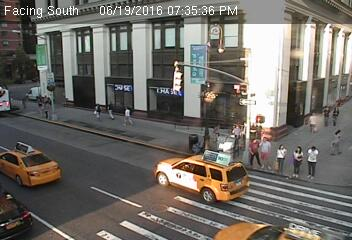neg: (150, 178, 166, 200), (250, 186, 266, 207), (72, 139, 86, 158), (5, 35, 19, 54), (101, 147, 115, 165), (22, 126, 36, 144), (25, 28, 38, 46), (238, 59, 251, 76), (103, 190, 116, 206), (195, 56, 207, 73), (73, 100, 85, 116), (227, 173, 239, 189), (179, 171, 189, 185), (86, 38, 96, 51), (110, 22, 120, 35), (70, 56, 80, 69), (30, 58, 40, 71), (54, 6, 64, 19), (294, 198, 304, 210), (283, 50, 292, 63), (243, 18, 252, 30), (68, 181, 77, 193), (187, 23, 195, 34), (126, 43, 134, 54), (249, 84, 257, 95), (204, 144, 212, 155), (40, 164, 48, 174), (191, 132, 199, 142), (50, 52, 57, 62), (165, 36, 172, 45), (176, 101, 183, 110), (76, 31, 82, 40), (159, 132, 165, 141)
pos: (302, 144, 327, 178), (286, 145, 311, 178), (256, 134, 281, 167), (239, 133, 263, 165), (270, 142, 292, 172), (326, 128, 348, 157), (304, 110, 322, 133), (326, 102, 344, 125), (317, 104, 334, 127), (119, 106, 134, 126), (104, 100, 117, 118), (39, 93, 51, 108), (33, 95, 43, 109), (94, 102, 104, 115)
